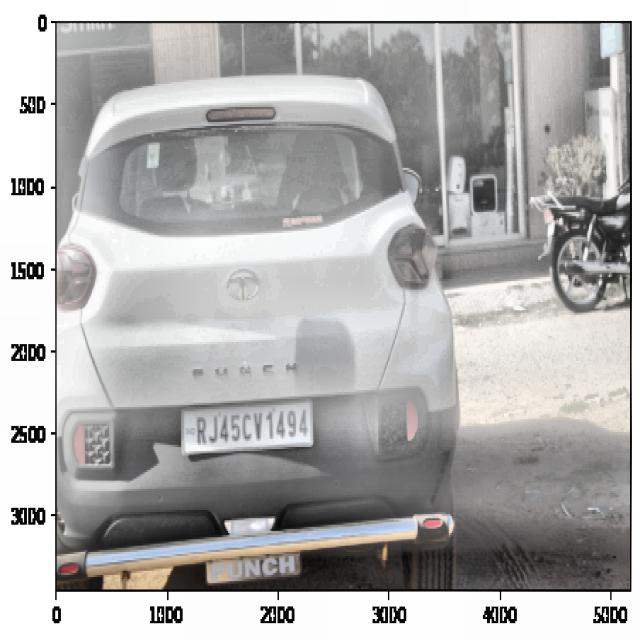license_plate: (193, 404, 312, 456)
